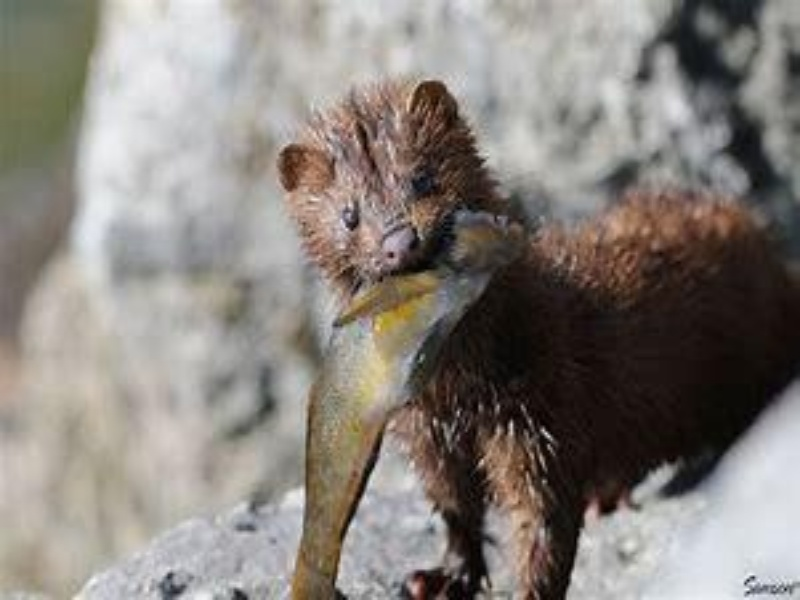minkish: (274, 70, 800, 597)
